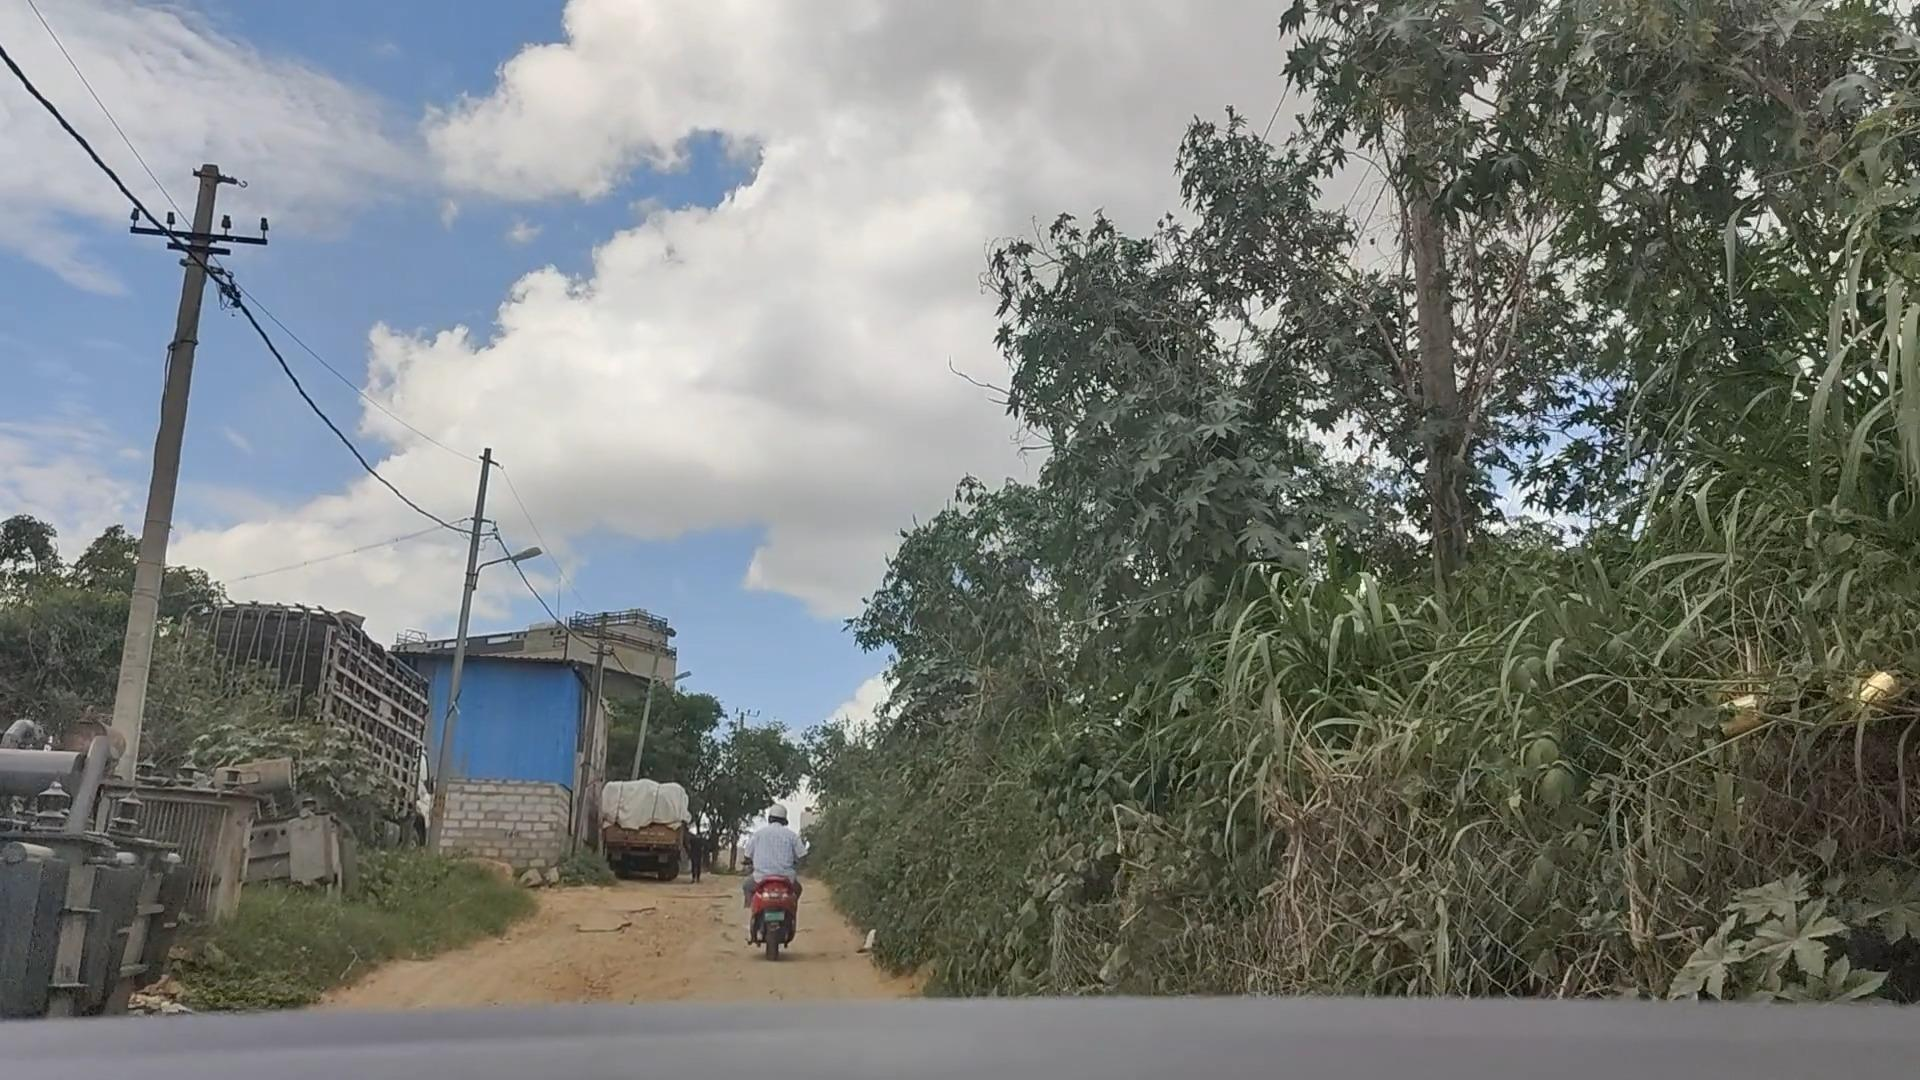HMV: (595, 769, 695, 887)
UnsurfacedRoad: (488, 897, 733, 994)
